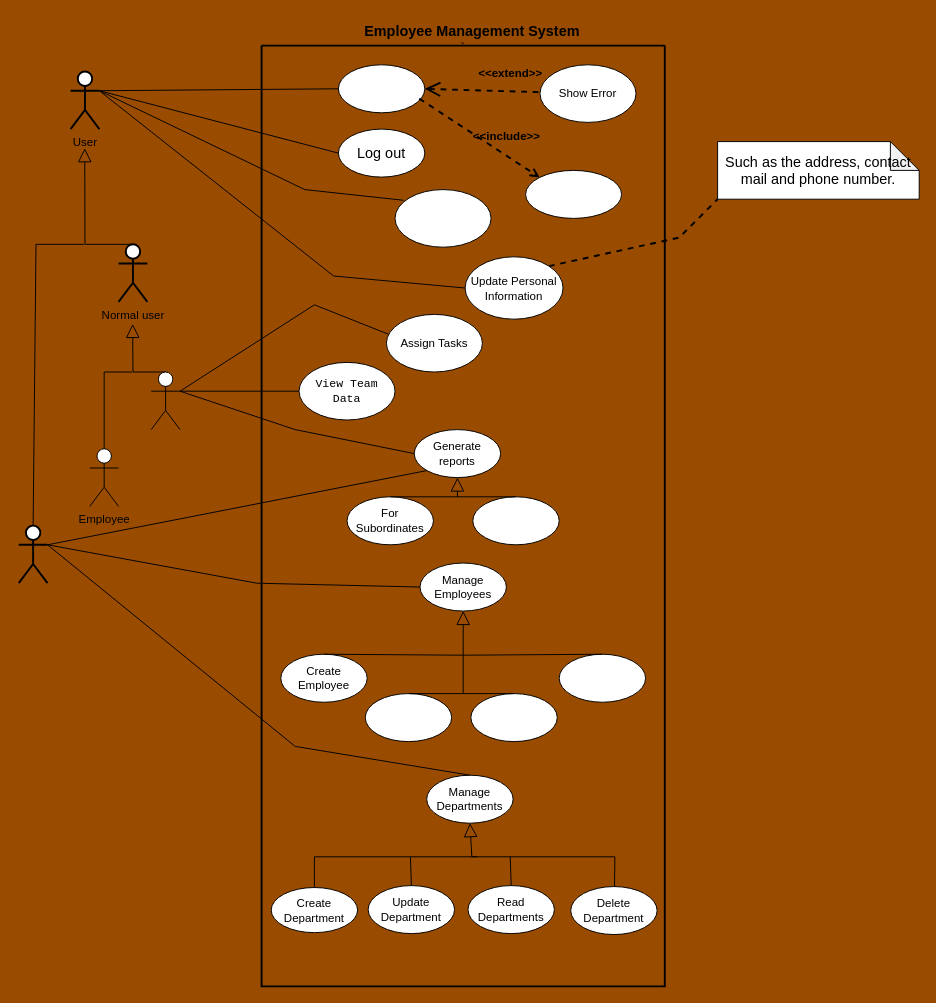
The diagram is 936 pixels wide and 1003 high, and some of its shapes have lost their labels. The centre of each missing label's shape, as x and y in pixels:
Admin: pixel 32 554
Delete Employee: pixel 602 677
Display Private Data: pixel 442 218
For Departments: pixel 515 520
Log in: pixel 381 88
Manager: pixel 165 400
Read Employee: pixel 513 717
Update Employee's data: pixel 408 717
Verify log in: pixel 573 193
